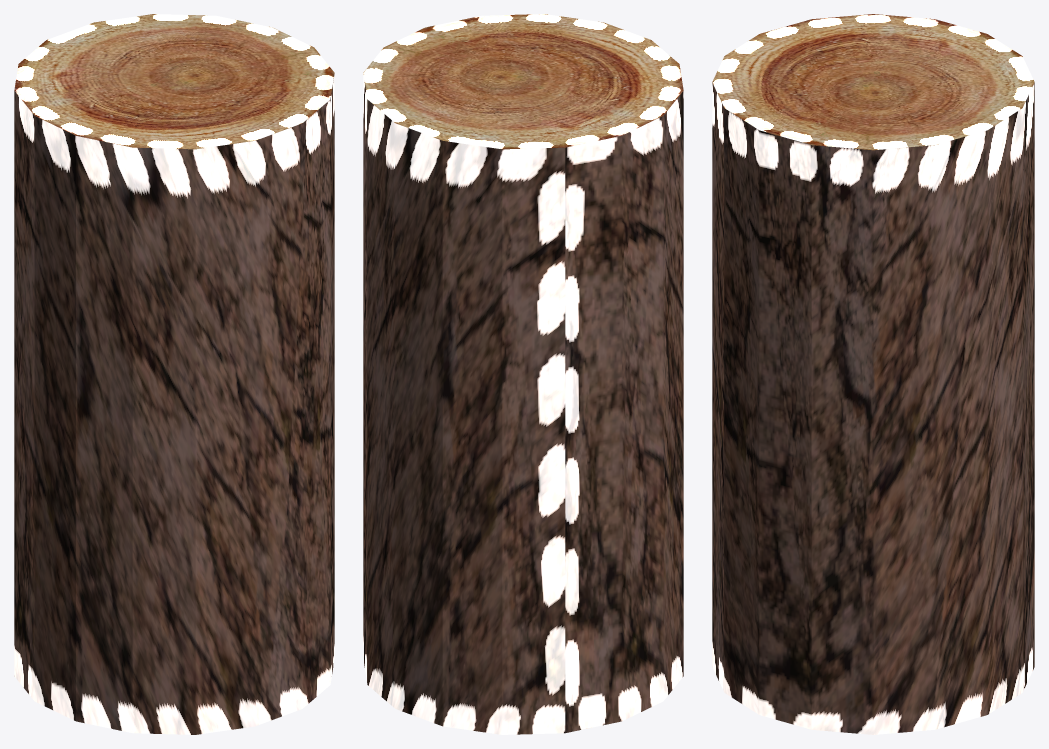
Rendered from tree-branch.glb.
The picture shows the model from 3 angles, left to right: view 1: azimuth 30°, elevation 25°; view 2: azimuth 150°, elevation 25°; view 3: azimuth 270°, elevation 25°; orthographic projection.
Visible parts, largest first — view 1: Trunk; view 2: Trunk; view 3: Trunk.
Boxes of the visible parts, <box> form: Trunk: <box>14,14,334,734</box>; Trunk: <box>363,14,683,734</box>; Trunk: <box>712,14,1034,734</box>.
Bounding box in the file's own units: 0.5 × 1 × 0.5.
Materials: 1 (1 with a texture image).
